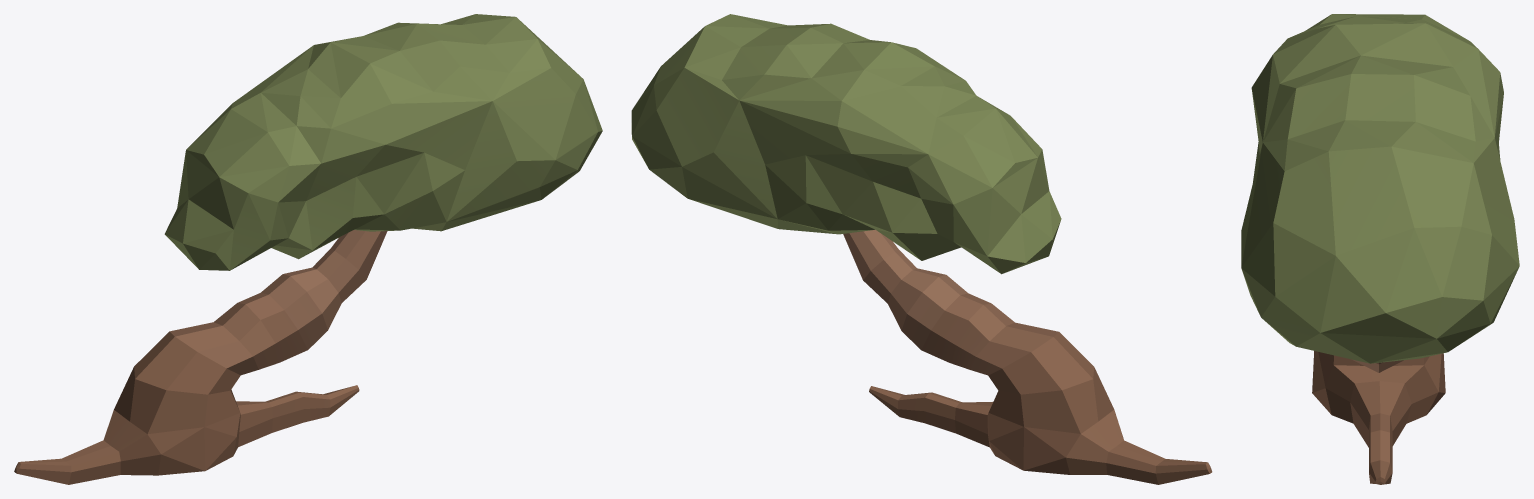
Rendered from tropical_tree_4.fbx.
3 renders of one model, left to right at view 1: azimuth 30°, elevation 25°; view 2: azimuth 150°, elevation 25°; view 3: azimuth 270°, elevation 25°, orthographic. The views are drawn at different scales.
Parts seen in each view (by area): view 1: tropical_trees_4; view 2: tropical_trees_4; view 3: tropical_trees_4.
Part boxes in pixels (x1,y1,x2,y2): tropical_trees_4: [14, 14, 602, 484]; tropical_trees_4: [631, 14, 1212, 484]; tropical_trees_4: [1241, 14, 1519, 484].
Bounding box in the file's own units: 1000 × 599 × 314.
